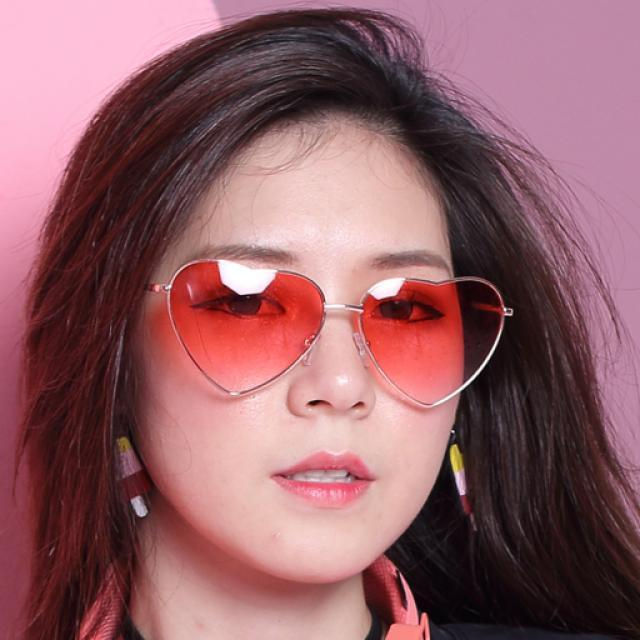neutral: (130, 124, 472, 584)
